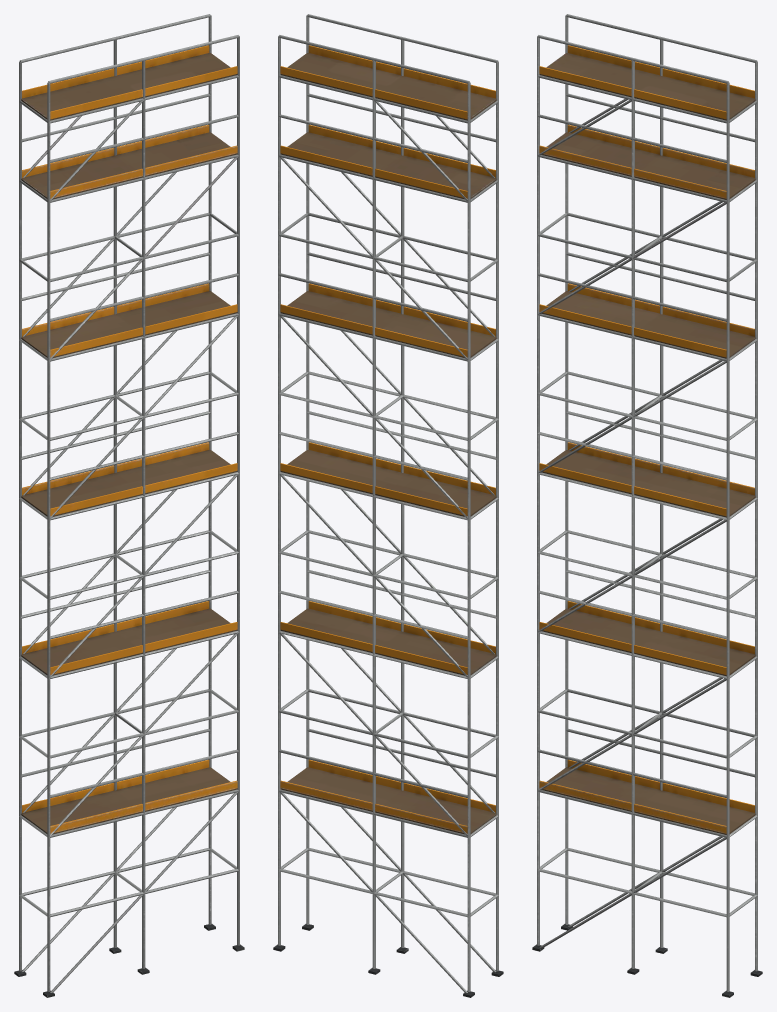
Rendered from scaffold-L.glb.
The picture shows the model from 3 angles, left to right: view 1: azimuth 30°, elevation 25°; view 2: azimuth 150°, elevation 25°; view 3: azimuth 330°, elevation 25°; orthographic projection.
Parts seen in each view (by area): view 1: scaffold-L; view 2: scaffold-L; view 3: scaffold-L.
Part boxes in pixels (box(x1,y1,x2,y2)): scaffold-L: box(14, 14, 244, 997); scaffold-L: box(273, 14, 503, 997); scaffold-L: box(532, 14, 762, 997).
Size of the model in its own units: 5.2 by 23.05 by 1.5.
Materials: 1 (1 with a texture image).
